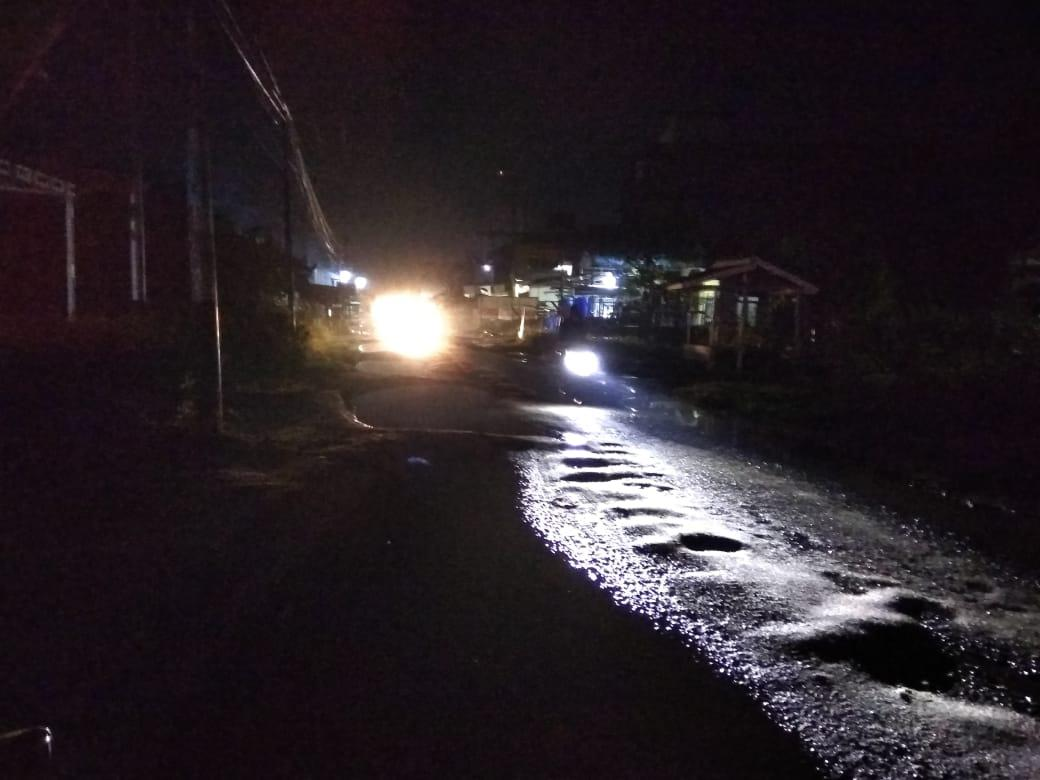Pothole: (526, 408, 1040, 780)
